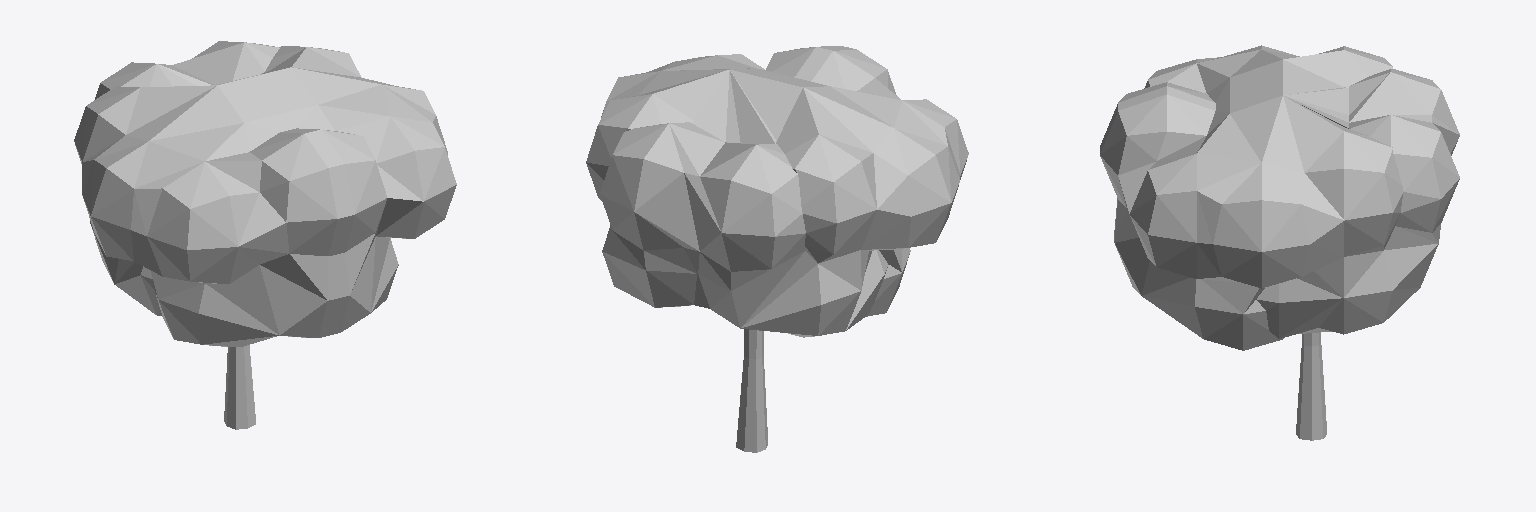
The model's file is oak1.obj.
3 renders of one model, left to right at view 1: azimuth 30°, elevation 25°; view 2: azimuth 150°, elevation 25°; view 3: azimuth 270°, elevation 25°, orthographic.
Parts seen in each view (by area): view 1: Mesh_0; view 2: Mesh_0; view 3: Mesh_0.
Part boxes in pixels (left/top/right/bottom): Mesh_0: left=74, top=41, right=456, bottom=429; Mesh_0: left=586, top=46, right=968, bottom=452; Mesh_0: left=1100, top=45, right=1459, bottom=440.
Bounding box in the file's own units: 5.71 × 5.58 × 5.11.